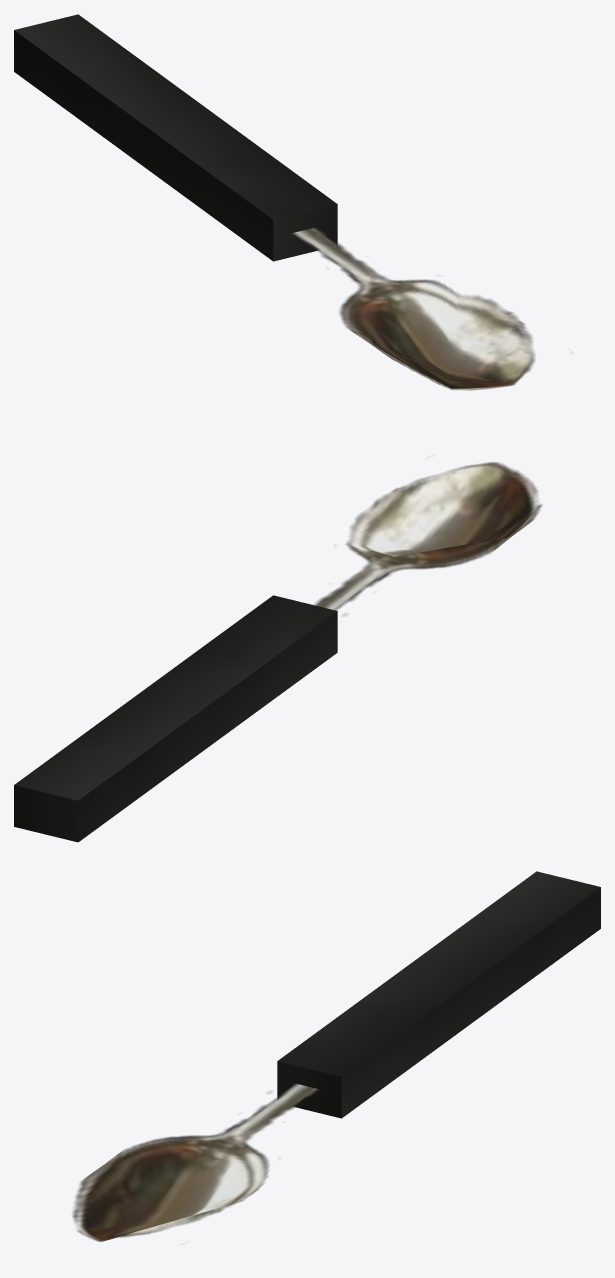
The model's file is Spoon.glb.
3 views of the same model, one above another, from view 1: azimuth 30°, elevation 25°; view 2: azimuth 150°, elevation 25°; view 3: azimuth 330°, elevation 25° (orthographic).
Visible parts, largest first — view 1: Spoon; view 2: Spoon; view 3: Spoon.
Part boxes in pixels (x1,y1,x2,y2): Spoon: (14, 14, 535, 390); Spoon: (14, 462, 542, 842); Spoon: (72, 871, 600, 1241).
Size of the model in its own units: 0.0935 by 0.0316 by 0.5267.
1 material, 1 textured.
